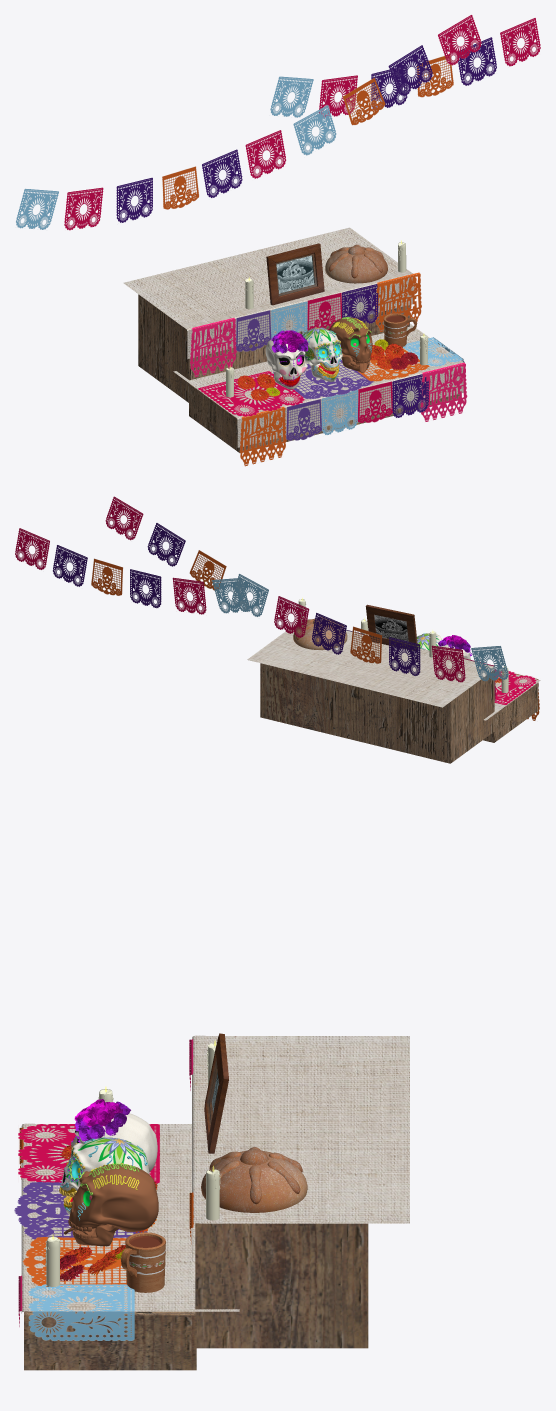
Rendered from altar.glb.
3 renders of one model, top to bottom at view 1: azimuth 30°, elevation 25°; view 2: azimuth 150°, elevation 25°; view 3: azimuth 270°, elevation 25°, orthographic. The views are drawn at different scales.
Parts seen in each view (by area): view 1: Mantel_blanco, Mantel_blanco_02, Mesa_altar_03, Mesa_altar_01, papel_dia_rosa_01, papel_dia_naranja_02, papel_base_rosa_04, papel_dia_rosa_02, cuadro:ramka01, papel_dia_naranja_01, pan_muerto:pan_muerto_base, papel_calavera_morado3 (+32 smaller); view 2: Mesa_altar_03, Mantel_blanco, Mesa_altar_01, cuadro:ramka01, papel_base_rosa_03, papel_base_rosa_06, papel_base_azul2, papel_base_morado2, papel_base_rosa_02, papel_base_morado6, papel_base_azul5, papel_base_rosa_05 (+12 smaller); view 3: Mantel_blanco, Mesa_altar_03, Mantel_blanco_02, Mesa_altar_01, papel_base_azul4, CALAVERA_06_CHOCOLATE:Craneo_superior_base_01__chocolate_cal, pan_muerto:pan_muerto_base, papel_base_rosa_04, papel_calavera_morado3, Craneo_superior_base_01, papel_calavera_naranja_04, taza_barro_01:Taza_barro_01 (+2 smaller).
Part boxes in pixels (bbox=[...]): Mantel_blanco: bbox=[123, 227, 414, 359]; Mantel_blanco_02: bbox=[173, 323, 463, 447]; Mesa_altar_03: bbox=[138, 294, 409, 402]; Mesa_altar_01: bbox=[189, 384, 459, 452]; papel_dia_rosa_01: bbox=[190, 317, 236, 377]; papel_dia_naranja_02: bbox=[239, 406, 286, 466]; papel_base_rosa_04: bbox=[198, 371, 304, 416]; papel_dia_rosa_02: bbox=[420, 362, 467, 421]; cuadro:ramka01: bbox=[266, 243, 324, 305]; papel_dia_naranja_01: bbox=[375, 272, 421, 331]; pan_muerto:pan_muerto_base: bbox=[325, 246, 387, 283]; papel_calavera_morado3: bbox=[273, 359, 373, 398]; Mesa_altar_03: bbox=[260, 663, 494, 763]; Mantel_blanco: bbox=[247, 623, 496, 707]; Mesa_altar_01: bbox=[483, 683, 538, 742]; cuadro:ramka01: bbox=[365, 604, 417, 650]; papel_base_rosa_03: bbox=[15, 528, 49, 569]; papel_base_rosa_06: bbox=[274, 596, 309, 637]; papel_base_azul2: bbox=[212, 578, 249, 613]; papel_base_morado2: bbox=[130, 569, 161, 608]; papel_base_rosa_02: bbox=[172, 577, 206, 614]; papel_base_morado6: bbox=[389, 637, 420, 675]; papel_base_azul5: bbox=[471, 646, 508, 681]; papel_base_rosa_05: bbox=[431, 645, 465, 682]; Mantel_blanco: bbox=[192, 1035, 409, 1260]; Mesa_altar_03: bbox=[195, 1223, 368, 1348]; Mantel_blanco_02: bbox=[21, 1123, 239, 1313]; Mesa_altar_01: bbox=[24, 1311, 196, 1370]; papel_base_azul4: bbox=[28, 1284, 134, 1340]; CALAVERA_06_CHOCOLATE:Craneo_superior_base_01__chocolate_cal: bbox=[69, 1164, 158, 1231]; pan_muerto:pan_muerto_base: bbox=[201, 1150, 307, 1212]; papel_base_rosa_04: bbox=[18, 1124, 159, 1183]; papel_calavera_morado3: bbox=[14, 1182, 147, 1239]; Craneo_superior_base_01: bbox=[60, 1137, 149, 1193]; papel_calavera_naranja_04: bbox=[22, 1237, 126, 1286]; taza_barro_01:Taza_barro_01: bbox=[125, 1232, 165, 1292].
Bounding box in the file's own units: 4.31 × 2.01 × 2.11.
38 materials, 20 textured.
